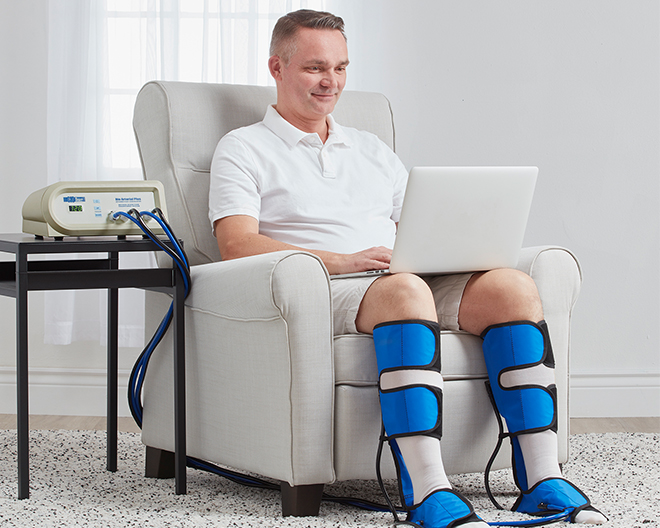computer: (331, 164, 541, 280)
patient: (207, 8, 611, 528)
sequential_compression: (23, 179, 603, 527)
sofa: (133, 80, 584, 517)
table: (1, 225, 188, 500)
